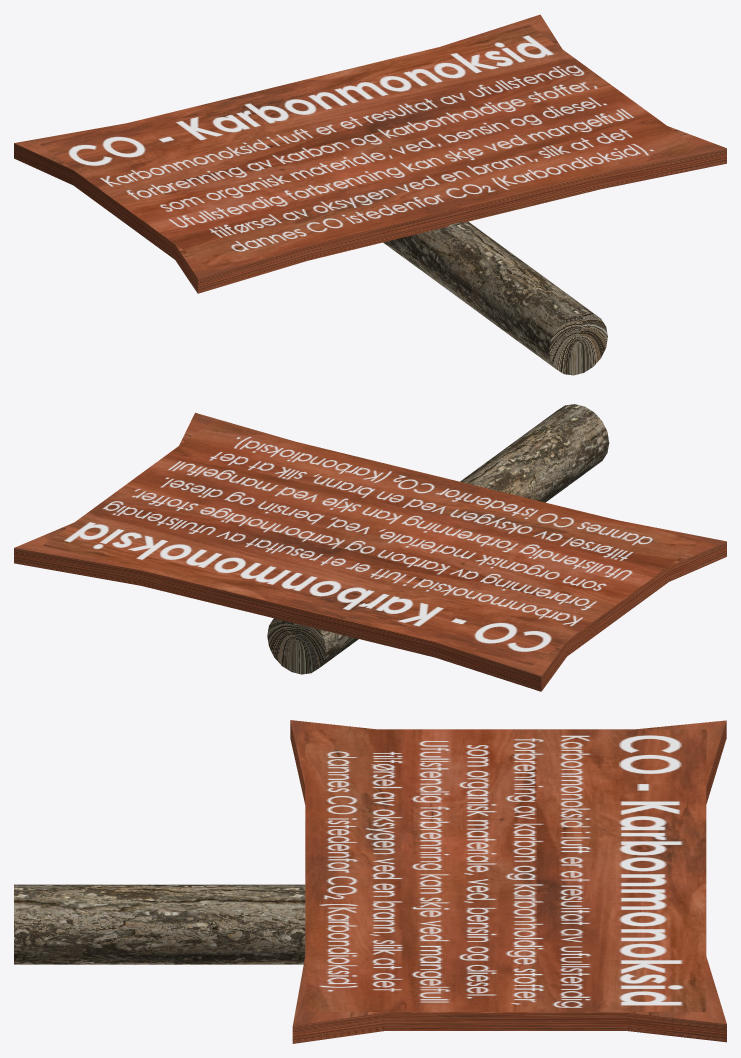
File: SkiltCO.FBX
3 views of the same model, one above another, from view 1: azimuth 30°, elevation 25°; view 2: azimuth 150°, elevation 25°; view 3: azimuth 270°, elevation 25° (orthographic). The views are drawn at different scales.
Parts seen in each view (by area): view 1: Teksta, Box002, Cylinder001; view 2: Teksta, Box002, Cylinder001; view 3: Teksta, Cylinder001, Box002.
Boxes of the visible parts, x1=… form: Teksta: x1=40, y1=25, x2=698, y2=268; Box002: x1=14, y1=14, x2=726, y2=293; Cylinder001: x1=383, y1=221, x2=607, y2=375; Teksta: x1=43, y1=421, x2=702, y2=665; Box002: x1=14, y1=412, x2=726, y2=691; Cylinder001: x1=267, y1=404, x2=609, y2=674; Teksta: x1=304, y1=729, x2=706, y2=1011; Cylinder001: x1=14, y1=884, x2=305, y2=964; Box002: x1=290, y1=720, x2=726, y2=1043.
Size of the model in its own units: 108 by 14.69 by 107.
Materials: 3 (3 with a texture image).
